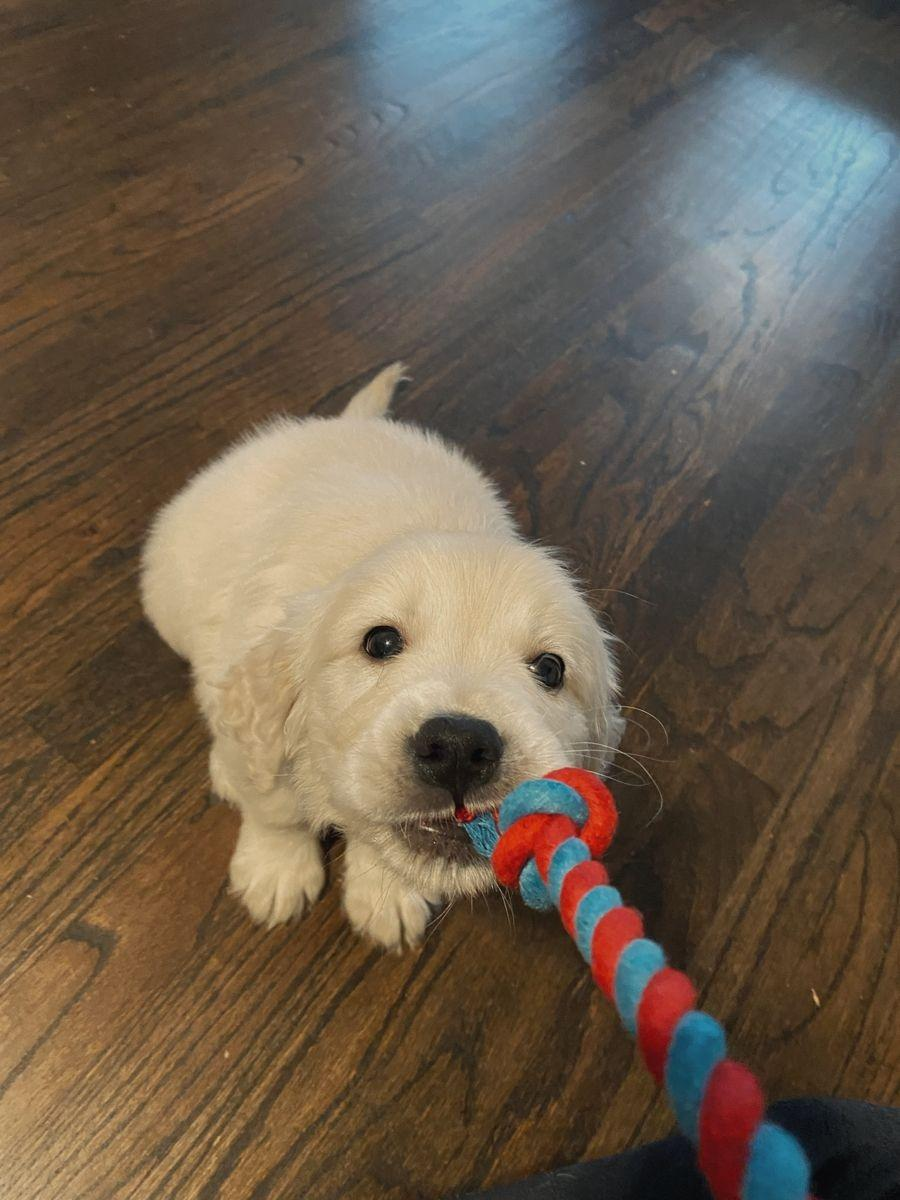puppy-dog: (139, 355, 628, 957)
